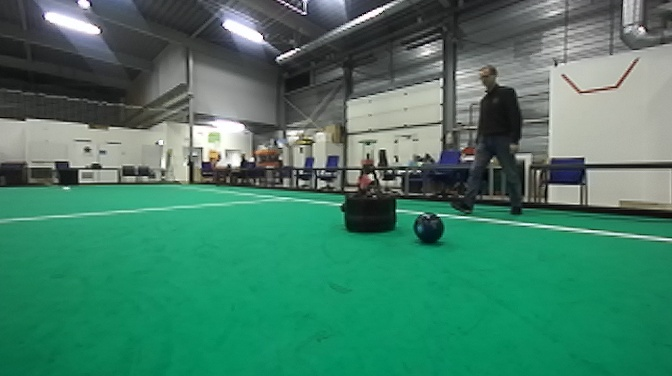ball: (409, 205, 446, 245)
human: (446, 58, 529, 220)
robot: (339, 131, 399, 235)
